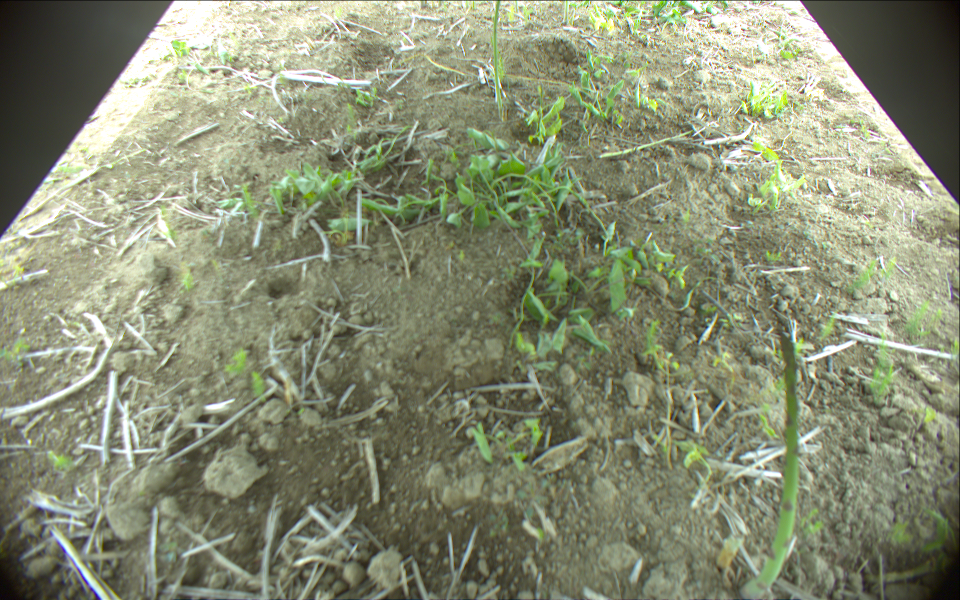aspa: (738, 321, 800, 600), (600, 127, 696, 159), (493, 1, 503, 116), (563, 1, 572, 23)
